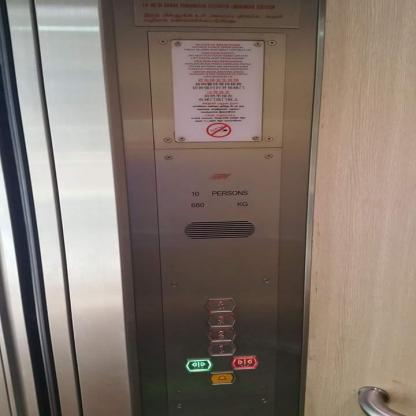1: (207, 340, 236, 356)
2: (206, 328, 236, 342)
3: (206, 313, 235, 327)
4: (204, 296, 236, 312)
alarm: (208, 370, 236, 385)
close: (230, 354, 258, 370)
open: (183, 358, 212, 372)
